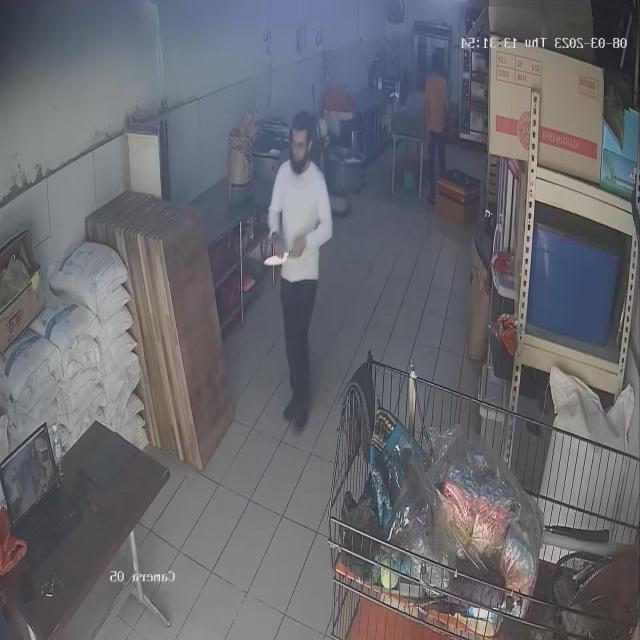Knife: (261, 229, 304, 273)
